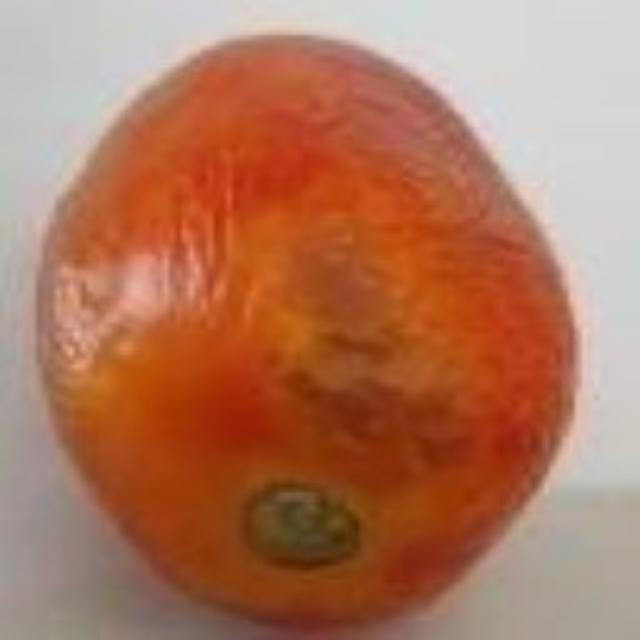defect: (35, 30, 589, 634)
